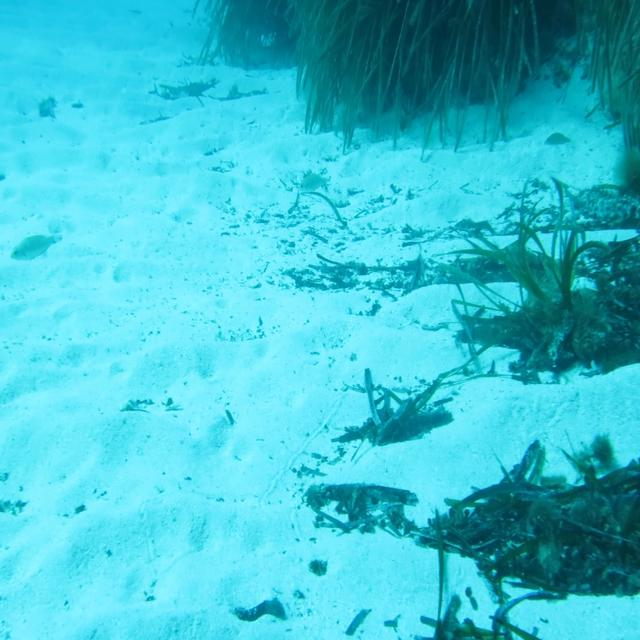BN: (8, 223, 67, 271)
female: (296, 174, 331, 199)
vegetation: (315, 0, 504, 84), (475, 274, 640, 360), (429, 491, 560, 561), (535, 499, 640, 573), (386, 595, 534, 640), (584, 0, 640, 95), (318, 483, 402, 522), (372, 402, 423, 438), (296, 262, 364, 288), (235, 593, 288, 624), (342, 606, 368, 639), (306, 555, 329, 578)
